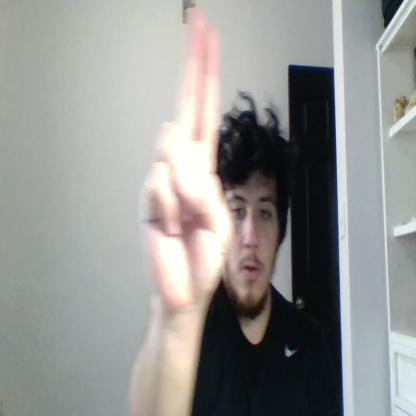U: (137, 15, 236, 309)
